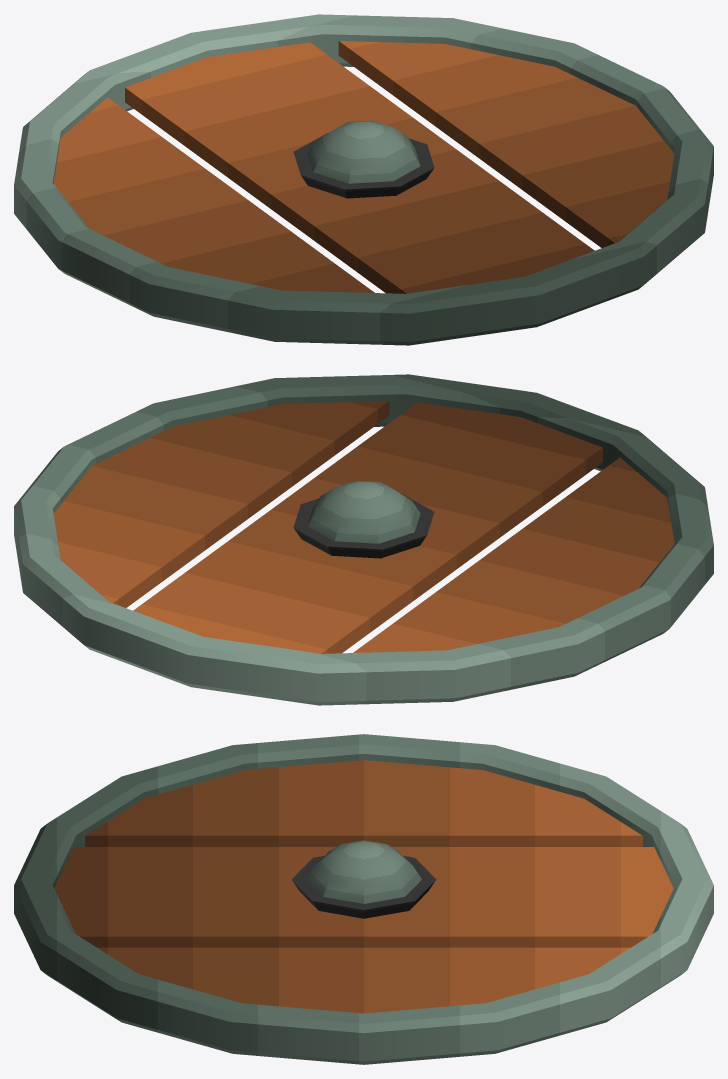
Rendered from round-shield.fbx.
3 views of the same model, one above another, from view 1: azimuth 30°, elevation 25°; view 2: azimuth 150°, elevation 25°; view 3: azimuth 270°, elevation 25° (orthographic).
Parts seen in each view (by area): view 1: Cylinder.011; view 2: Cylinder.011; view 3: Cylinder.011.
Boxes of the visible parts, bbox=[...] form: Cylinder.011: bbox=[14, 14, 713, 345]; Cylinder.011: bbox=[14, 374, 713, 705]; Cylinder.011: bbox=[14, 734, 713, 1064].
Size of the model in its own units: 200 by 23.01 by 200.
